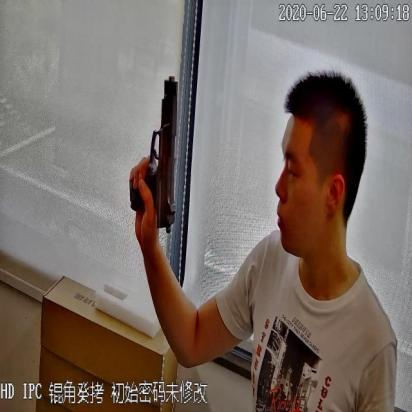Gun: (119, 76, 184, 223)
